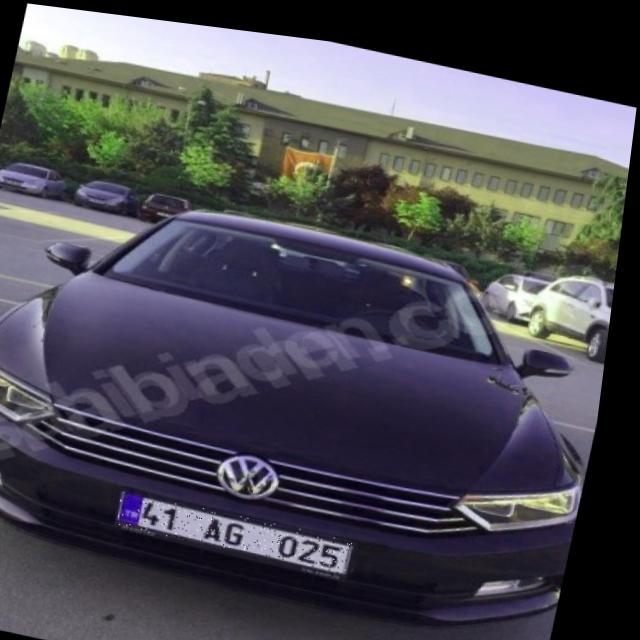license_plate: (126, 485, 367, 564)
